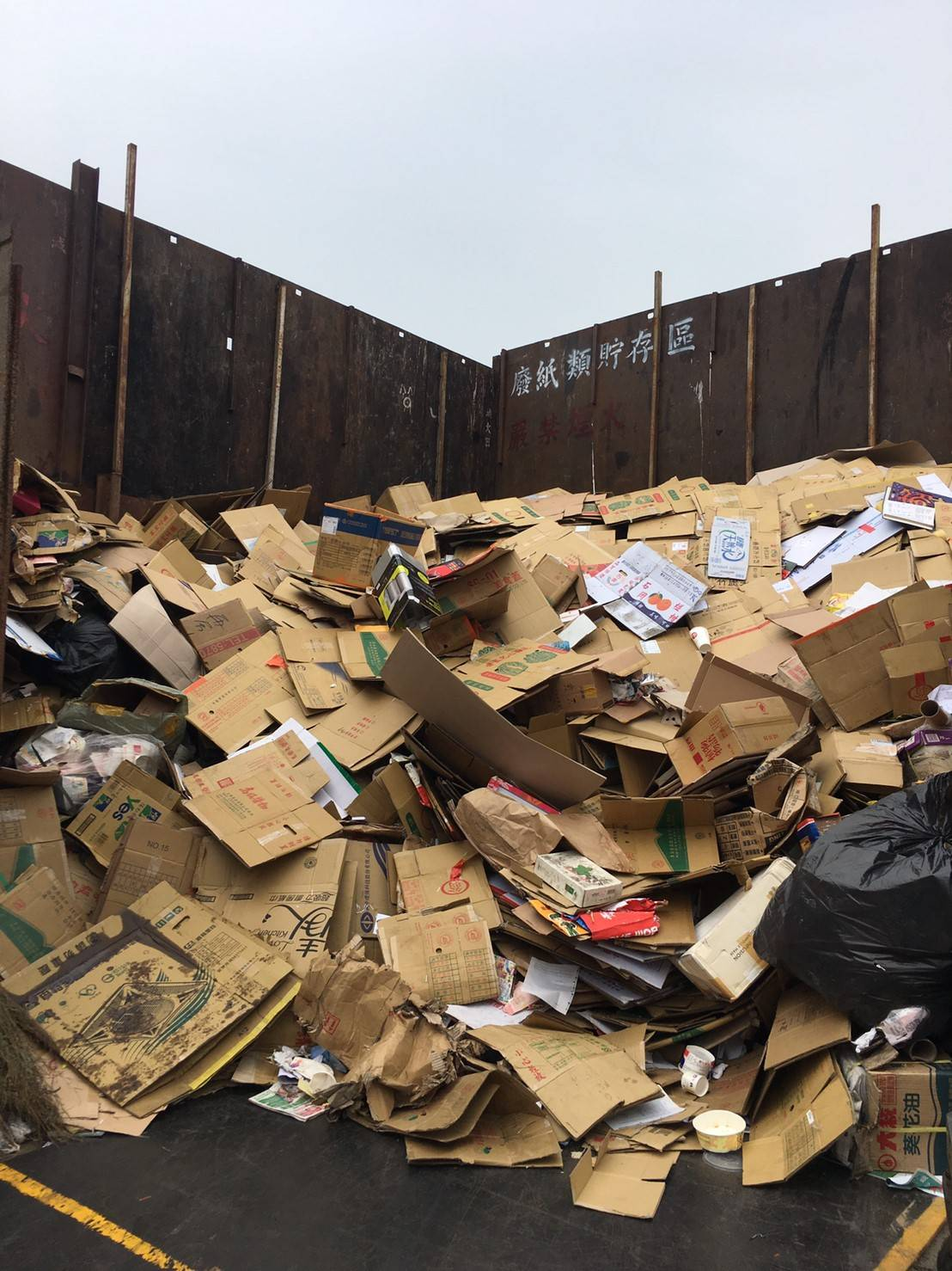paper: (36, 887, 258, 1102), (395, 638, 610, 815), (488, 1018, 656, 1133), (318, 972, 461, 1085), (194, 746, 335, 853), (170, 635, 294, 736), (660, 698, 808, 771), (591, 552, 705, 623), (407, 844, 498, 925), (543, 850, 619, 913), (693, 1108, 751, 1151), (679, 1044, 722, 1101)
